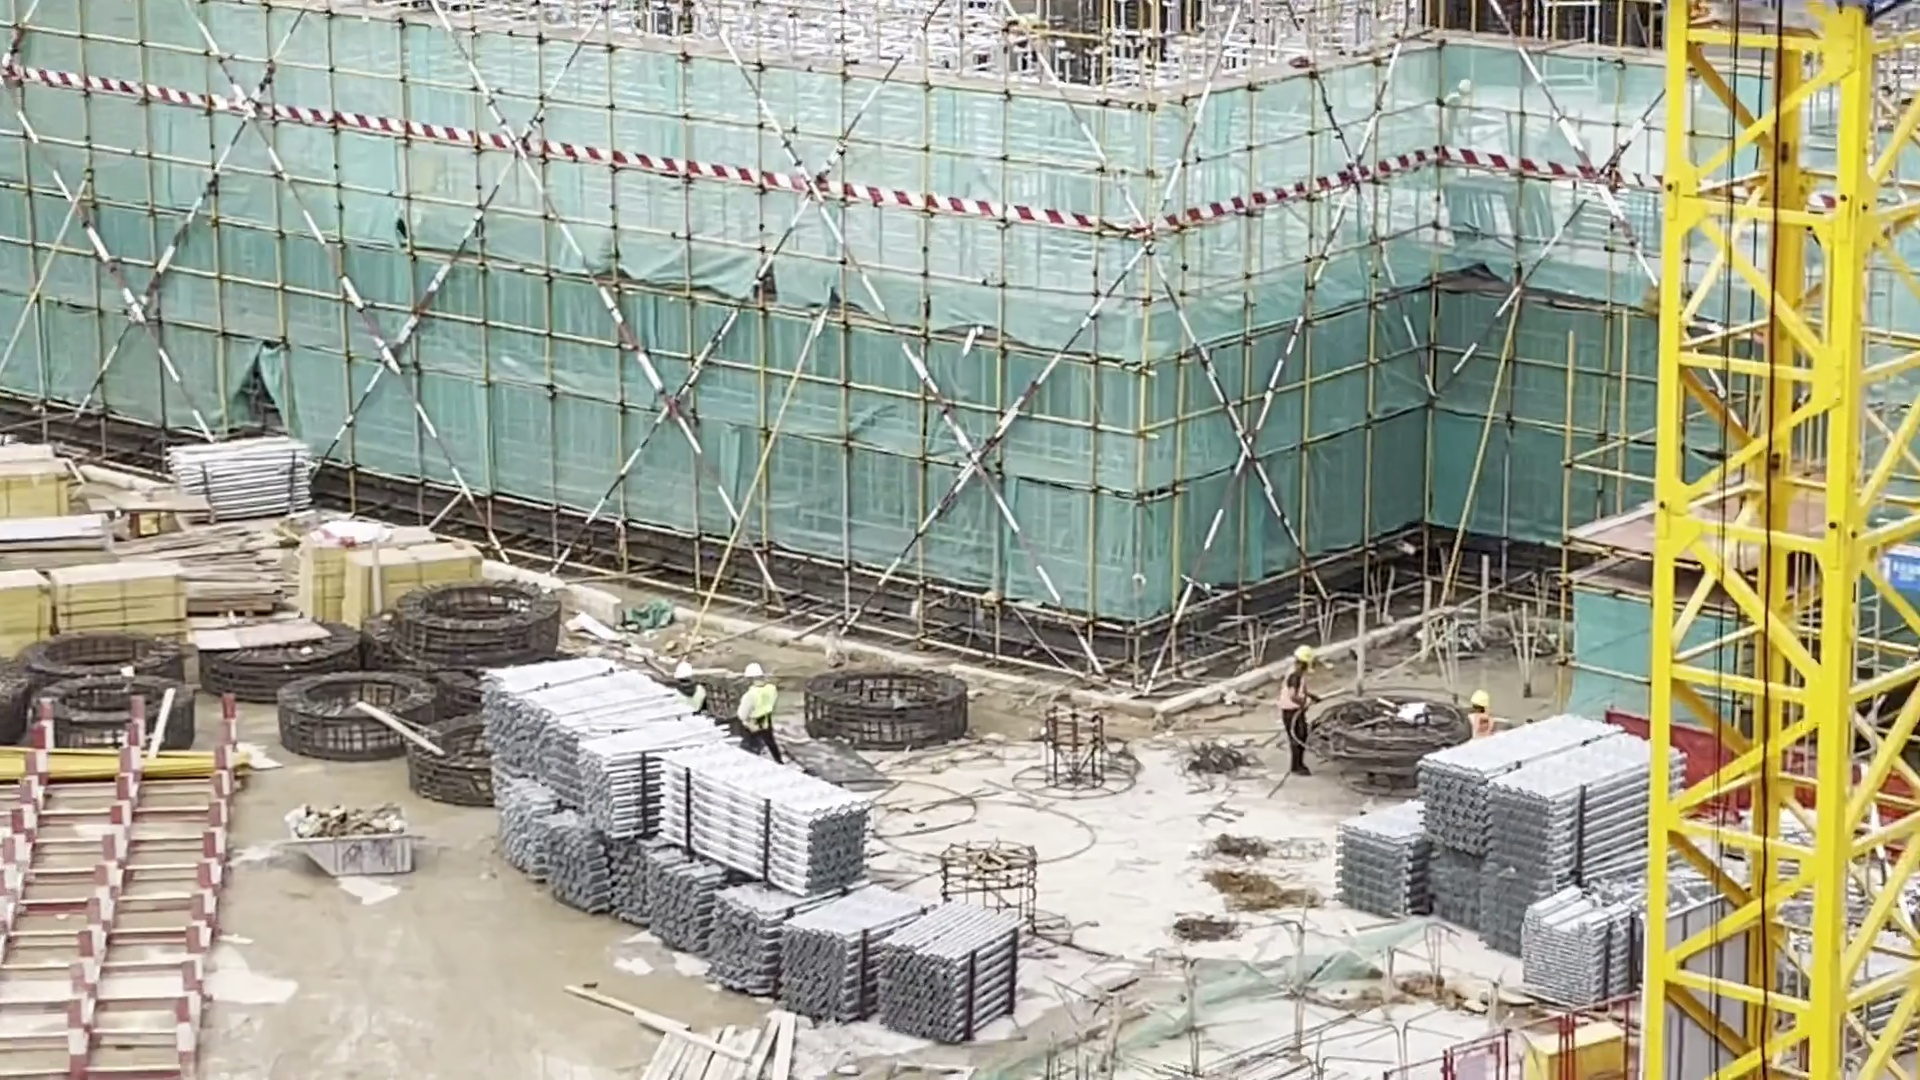helmet: (1470, 691, 1490, 712), (742, 661, 765, 676), (1293, 646, 1313, 663), (677, 664, 692, 680)
person: (737, 660, 793, 763), (1281, 641, 1322, 776), (667, 658, 714, 708), (1464, 686, 1501, 738)
vest: (748, 686, 774, 721), (1283, 667, 1306, 707), (673, 686, 705, 709), (1469, 713, 1493, 737)
